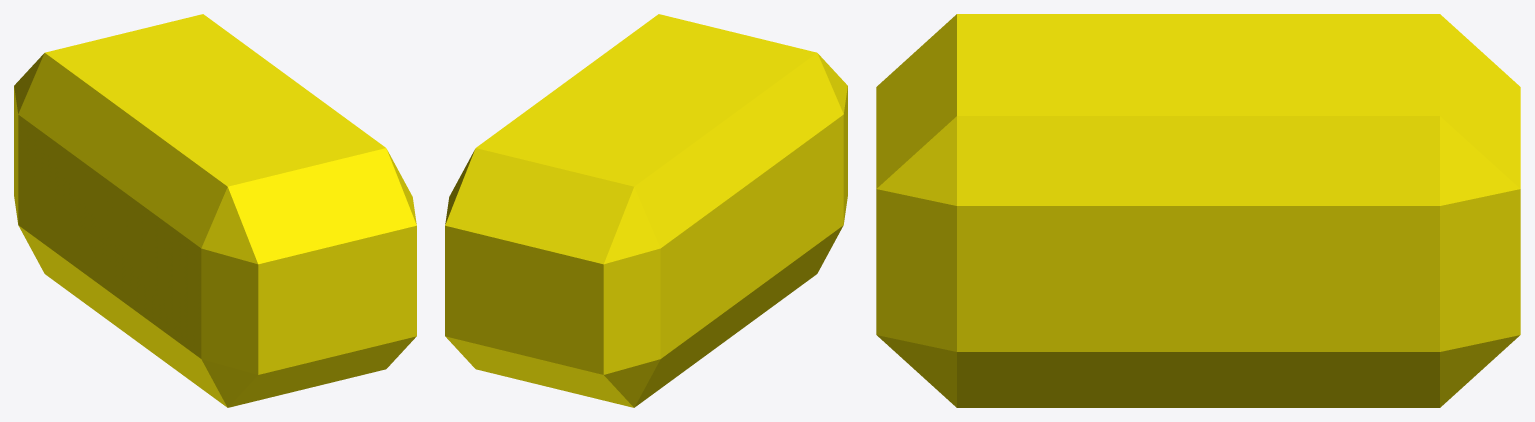
File: ingot.glb
The picture shows the model from 3 angles, left to right: view 1: azimuth 30°, elevation 25°; view 2: azimuth 150°, elevation 25°; view 3: azimuth 270°, elevation 25°; orthographic projection. The views are drawn at different scales.
Visible parts, largest first — view 1: ingot; view 2: ingot; view 3: ingot.
Boxes of the visible parts, x1,y1,x2,y2 form: ingot: [14, 14, 416, 407]; ingot: [445, 14, 847, 407]; ingot: [876, 14, 1520, 407].
Size of the model in its own units: 0.25 by 0.25 by 0.5.
Materials: 1 (1 with a texture image).
